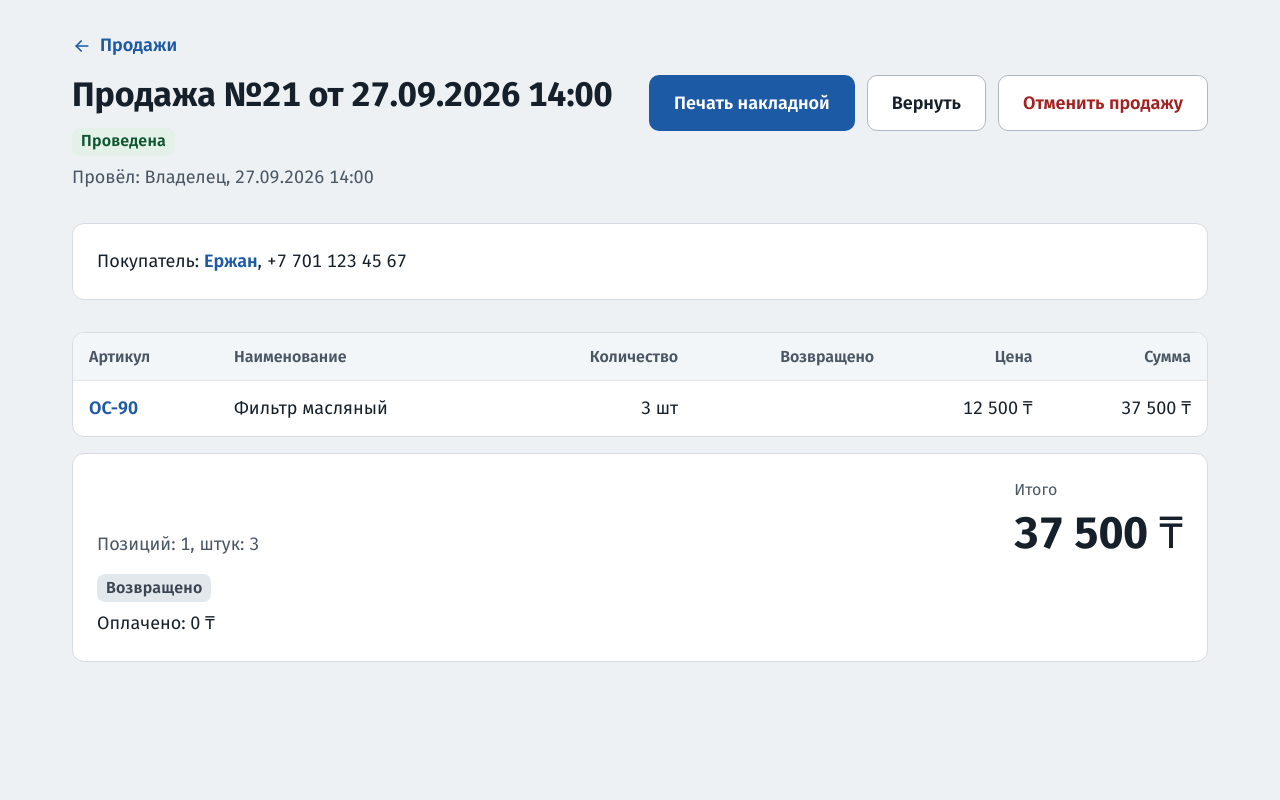
it: SalePage › does not cancel without a reason
Click the button "Отменить продажу" at (1103, 103), box [998,75,1208,131]
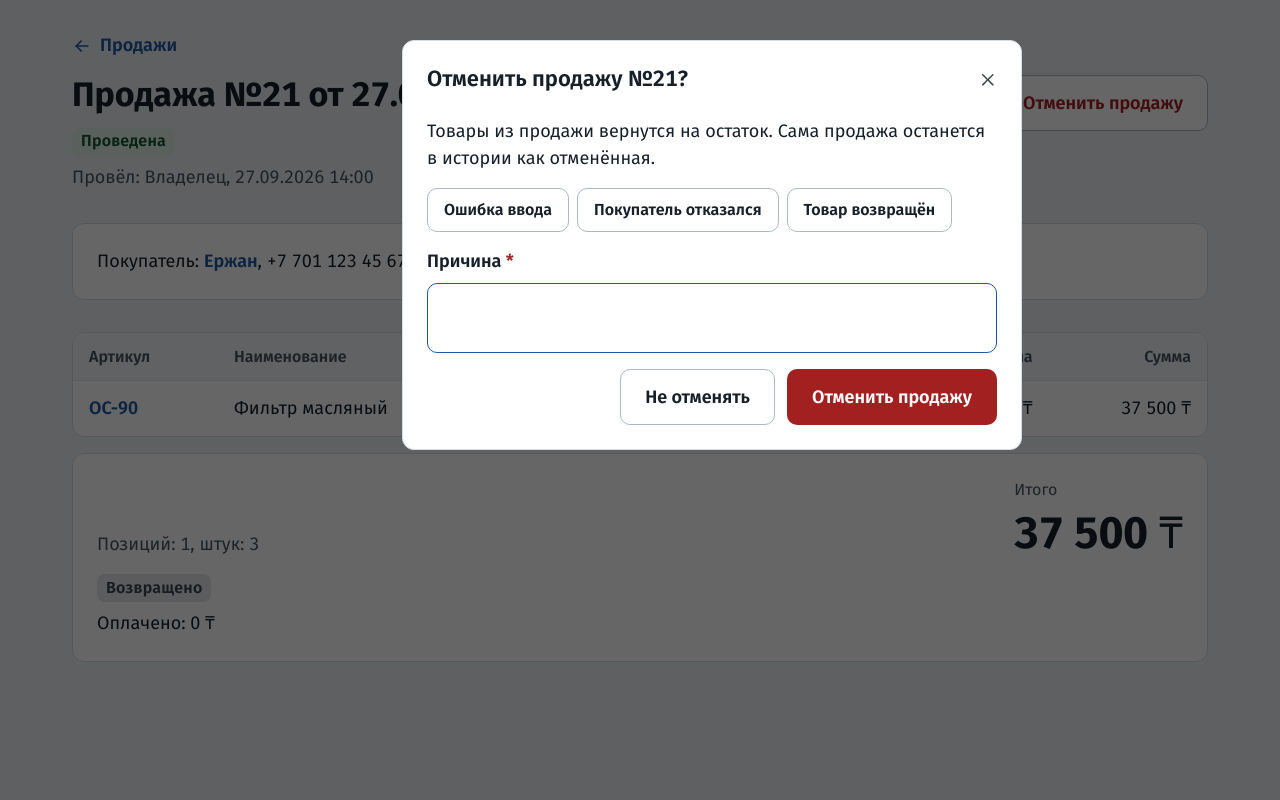
Click the button "Отменить продажу" at (892, 397), box [787,369,997,425]
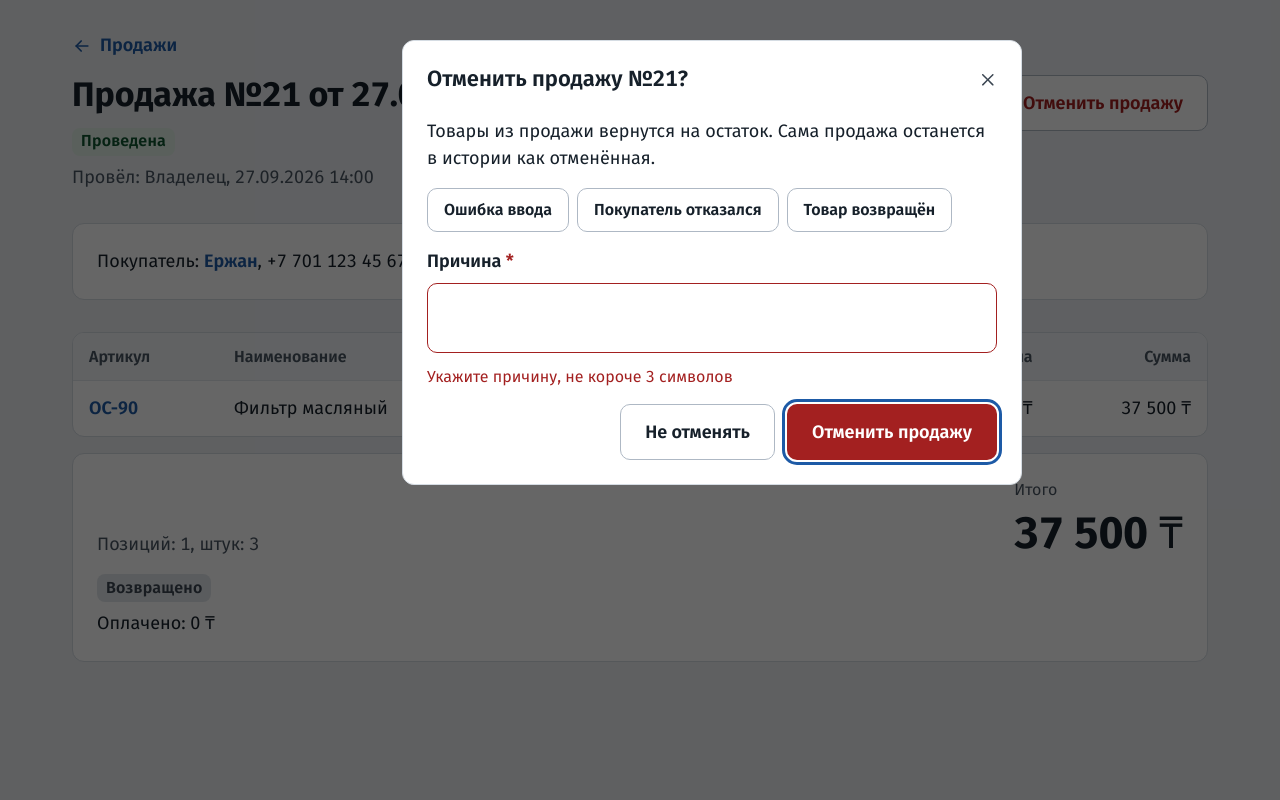
Result: the text "Укажите причину, не короче 3 символов" is shown at [427,367,733,386]
